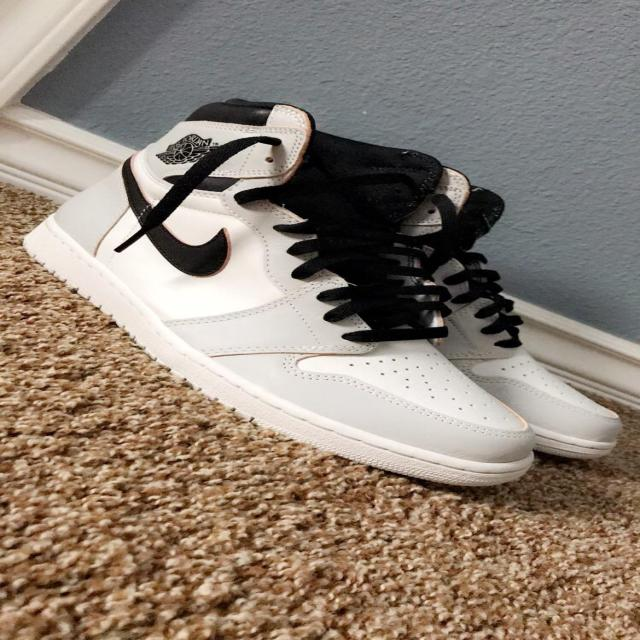shoe: (14, 83, 532, 494), (446, 134, 640, 467)
